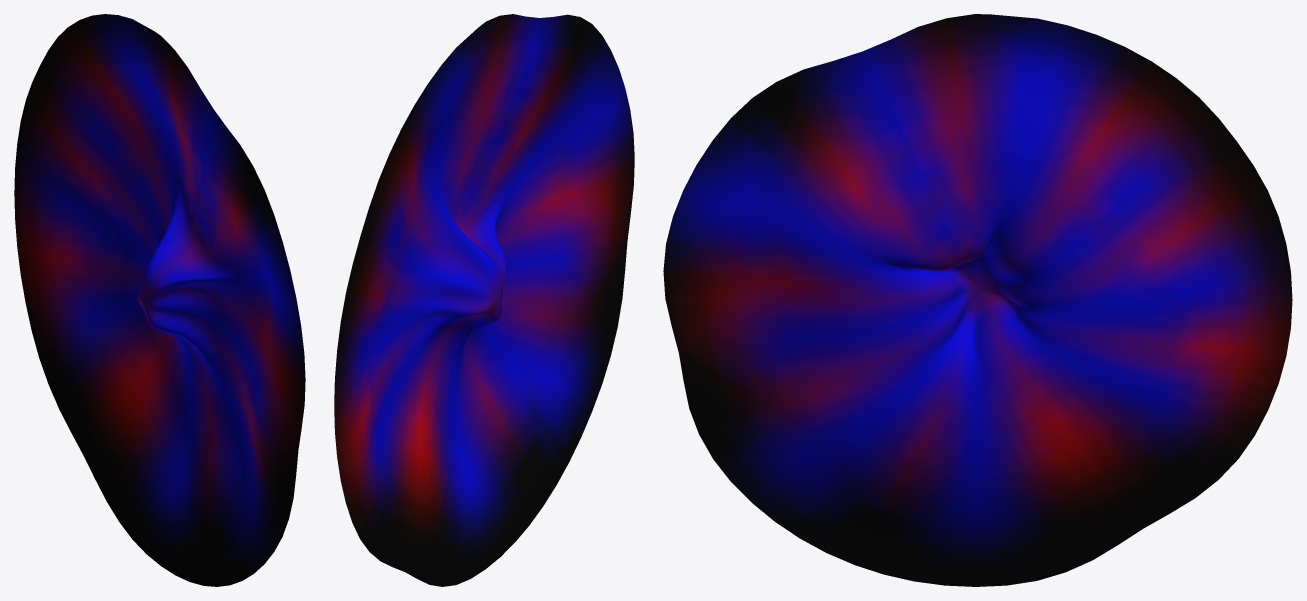
File: SM_Shadow_Portal.FBX
The picture shows the model from 3 angles, left to right: view 1: azimuth 30°, elevation 25°; view 2: azimuth 150°, elevation 25°; view 3: azimuth 270°, elevation 25°; orthographic projection. The views are drawn at different scales.
Visible parts, largest first — view 1: SM_Shadow_Portal; view 2: SM_Shadow_Portal; view 3: SM_Shadow_Portal.
Part boxes in pixels (box(x1,y1,x2,y2)): SM_Shadow_Portal: box(14, 14, 305, 586); SM_Shadow_Portal: box(334, 14, 634, 586); SM_Shadow_Portal: box(663, 14, 1292, 586).
Bounding box in the file's own units: 12.73 × 138 × 139.
